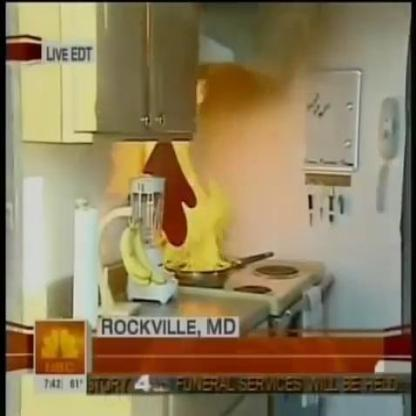fire: (140, 81, 239, 272)
